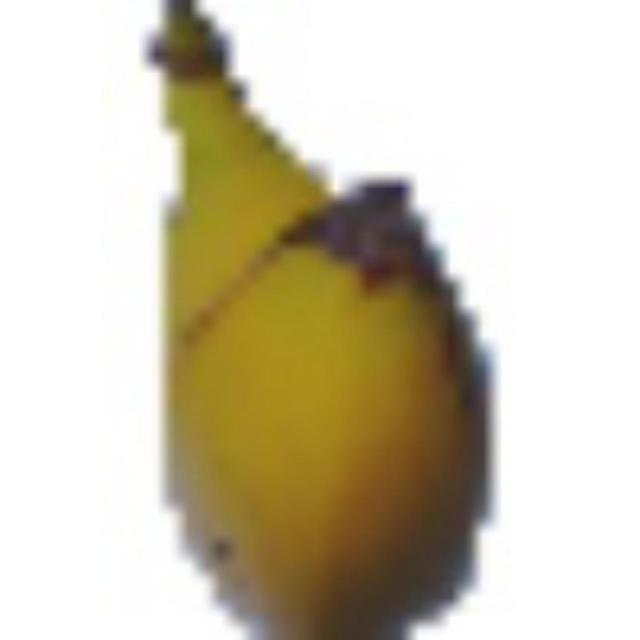banana: (156, 0, 498, 639)
